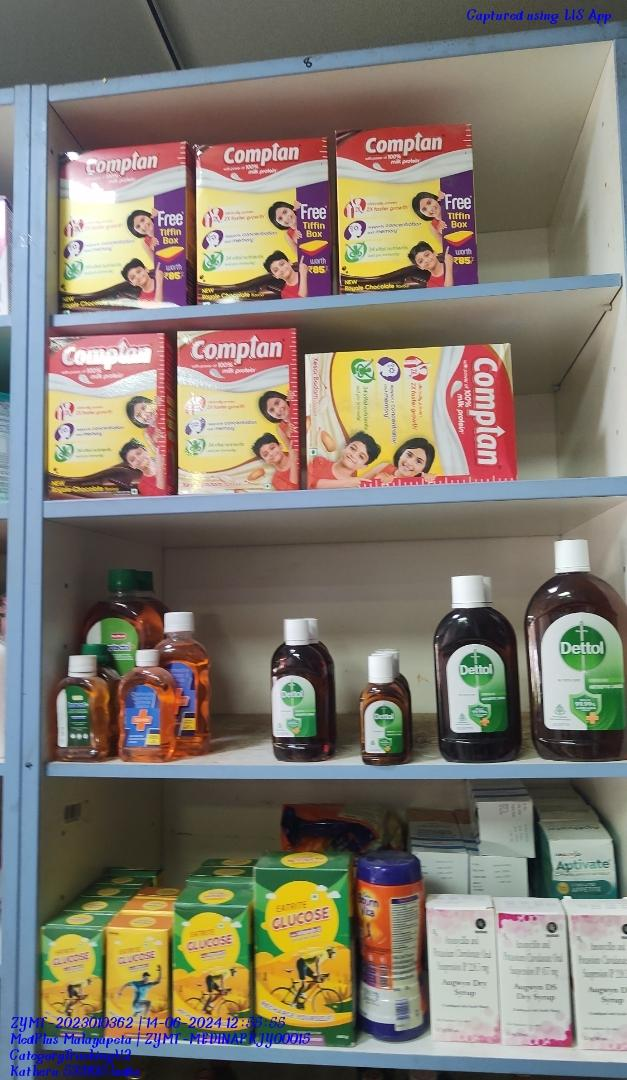COMPLAN_CHOCOLATE_500_GMS_PACK: (341, 123, 478, 286), (195, 144, 331, 302), (58, 147, 184, 307), (48, 339, 165, 496)
COMPLAN_KESAR_BADAM_500_GMS_PACK: (176, 330, 300, 492)
